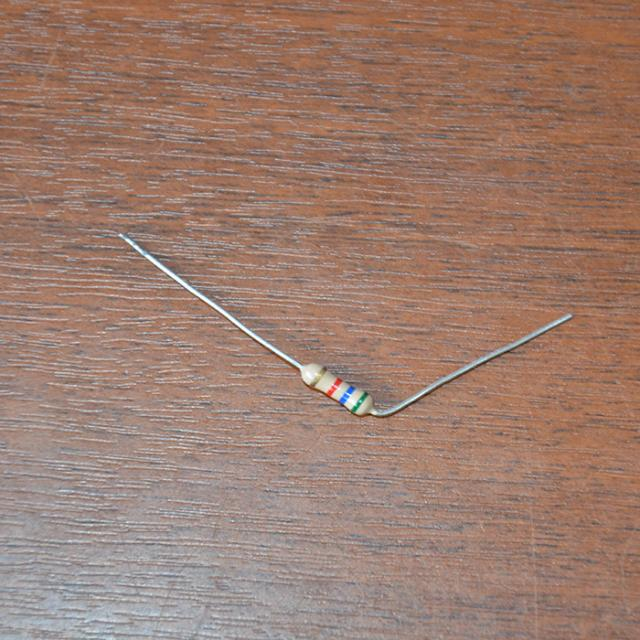blue: (340, 386, 355, 402)
gold: (311, 366, 326, 386)
green: (351, 393, 367, 412)
red: (327, 378, 342, 396)
resistor: (297, 351, 376, 425)
